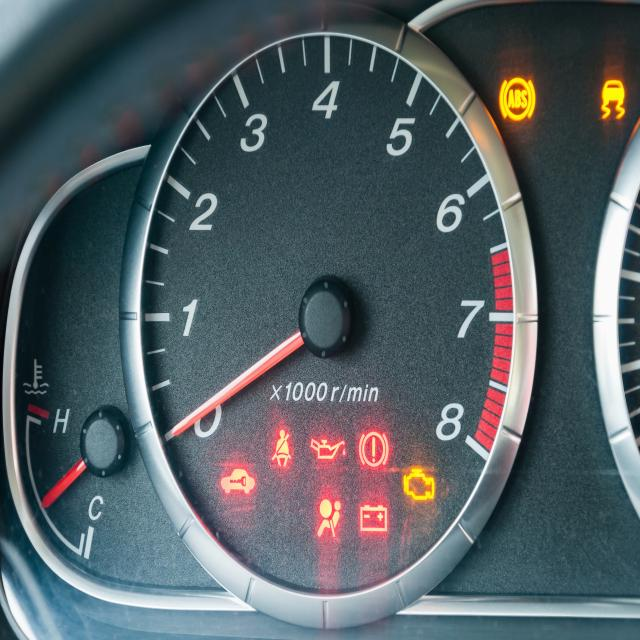kontrolka: (494, 67, 541, 127), (311, 489, 349, 552), (354, 425, 394, 475), (306, 428, 349, 468), (400, 467, 440, 508), (597, 77, 629, 124), (356, 498, 392, 539)
